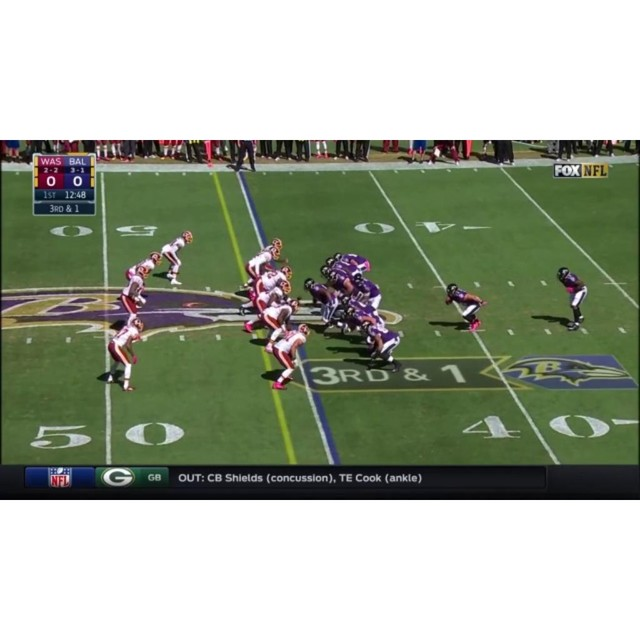american-football-player: (102, 316, 146, 391), (268, 324, 311, 390), (241, 281, 291, 335), (239, 237, 284, 291), (443, 282, 487, 333), (302, 277, 344, 329), (260, 298, 300, 352), (362, 320, 403, 372), (556, 268, 589, 330), (118, 266, 150, 324), (161, 230, 193, 287), (351, 270, 382, 311), (124, 253, 162, 284), (330, 252, 371, 274)
